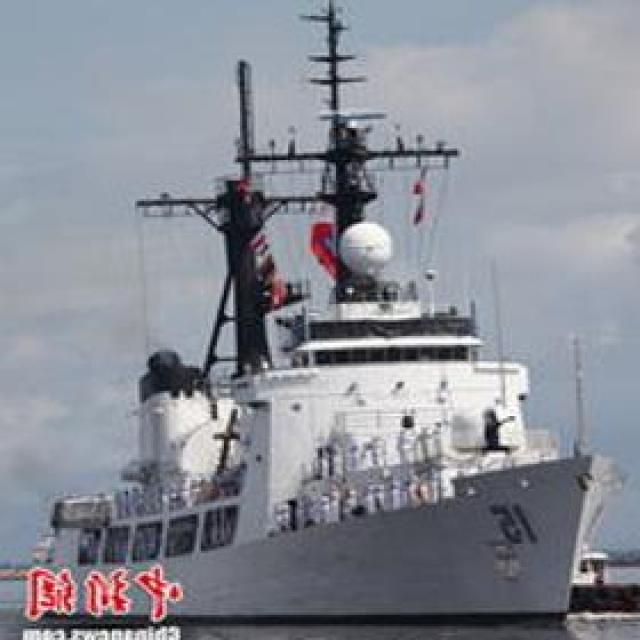navalvessels: (16, 0, 624, 633)
